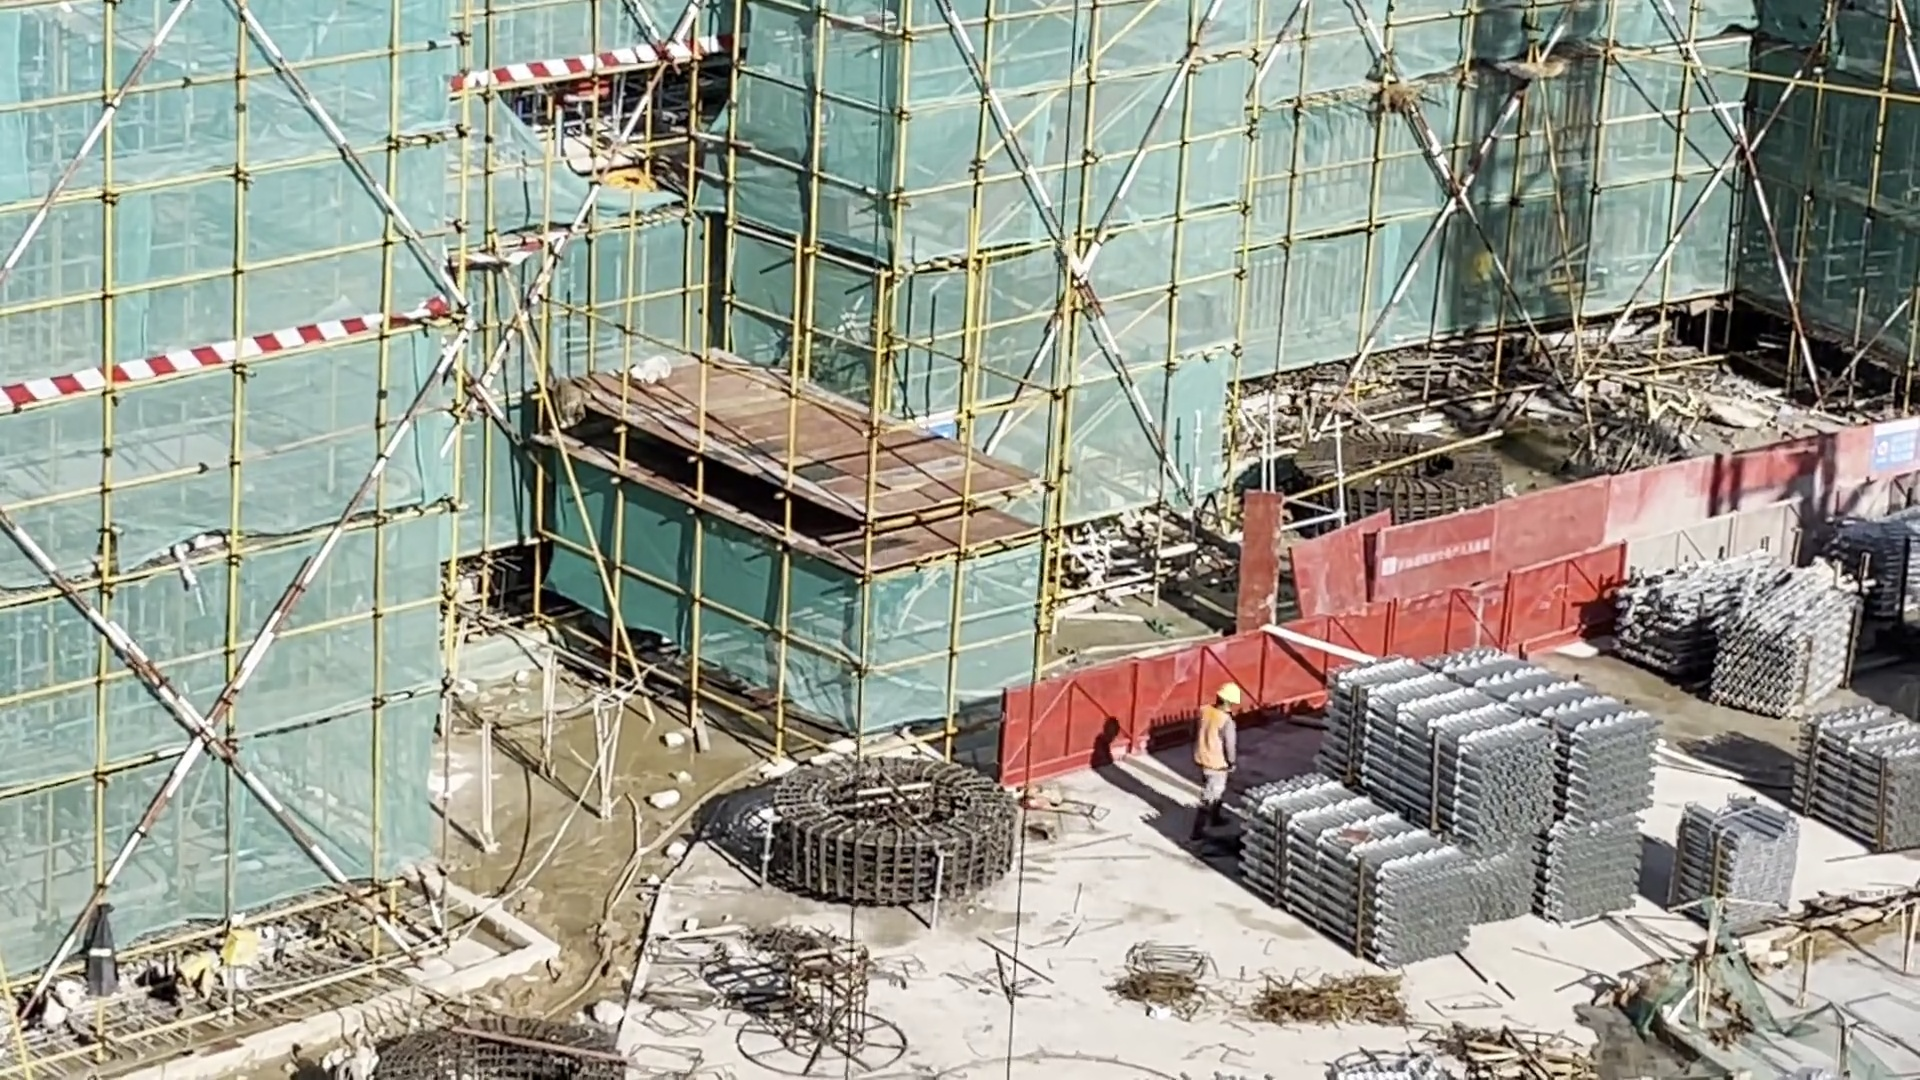fence: (998, 465, 1920, 789)
helmet: (1213, 679, 1238, 703)
person: (1196, 679, 1249, 828)
scaffold: (1237, 648, 1657, 967), (1602, 547, 1863, 703), (1795, 705, 1920, 851), (1676, 794, 1801, 930)
vest: (1194, 704, 1230, 762)
